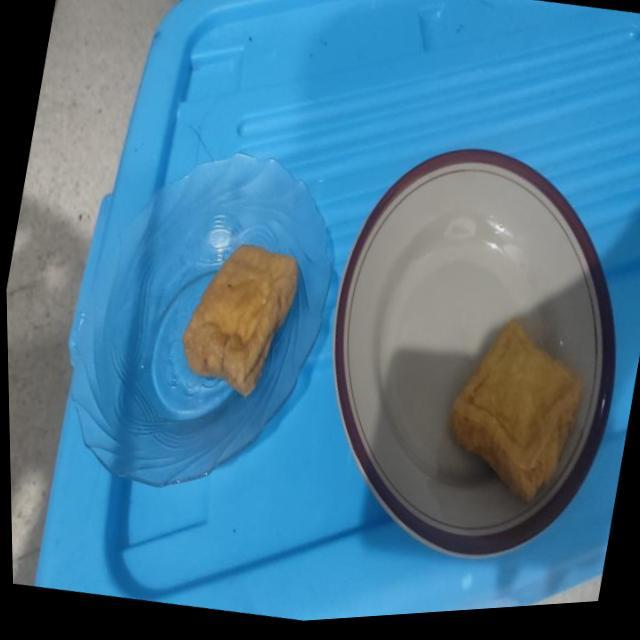tahu_goreng: (450, 318, 582, 501), (182, 246, 298, 396)
